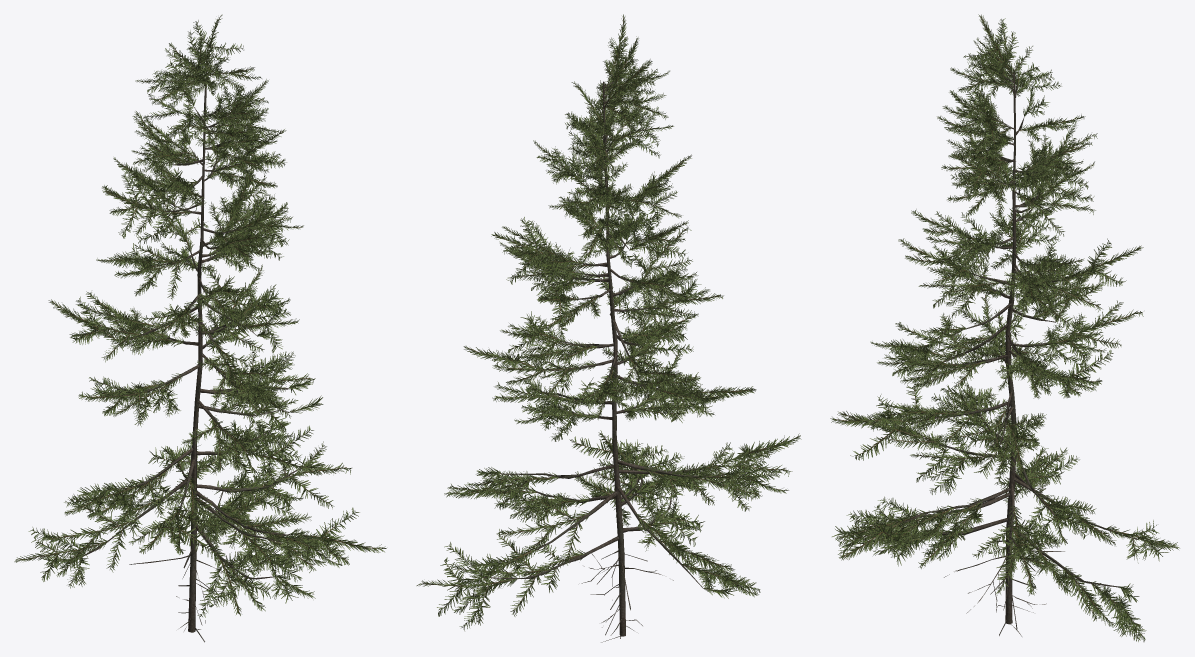
File: fir-medium-b.glb
3 renders of one model, left to right at view 1: azimuth 30°, elevation 25°; view 2: azimuth 150°, elevation 25°; view 3: azimuth 270°, elevation 25°, orthographic. The views are drawn at different scales.
Visible parts, largest first — view 1: fir_sapling_medium_b_NEAR, fir_sapling_medium_b_FAR; view 2: fir_sapling_medium_b_NEAR, fir_sapling_medium_b_FAR; view 3: fir_sapling_medium_b_NEAR, fir_sapling_medium_b_FAR.
Boxes of the visible parts, left/top/right/bottom form: fir_sapling_medium_b_NEAR: left=14, top=14, right=386, bottom=642; fir_sapling_medium_b_FAR: left=15, top=20, right=386, bottom=632; fir_sapling_medium_b_NEAR: left=416, top=14, right=801, bottom=642; fir_sapling_medium_b_FAR: left=419, top=19, right=800, bottom=636; fir_sapling_medium_b_NEAR: left=830, top=14, right=1178, bottom=641; fir_sapling_medium_b_FAR: left=833, top=18, right=1179, bottom=640.
Bounding box in the file's own units: 4.27 × 7.8 × 3.96.
Materials: 3 (3 with a texture image).
